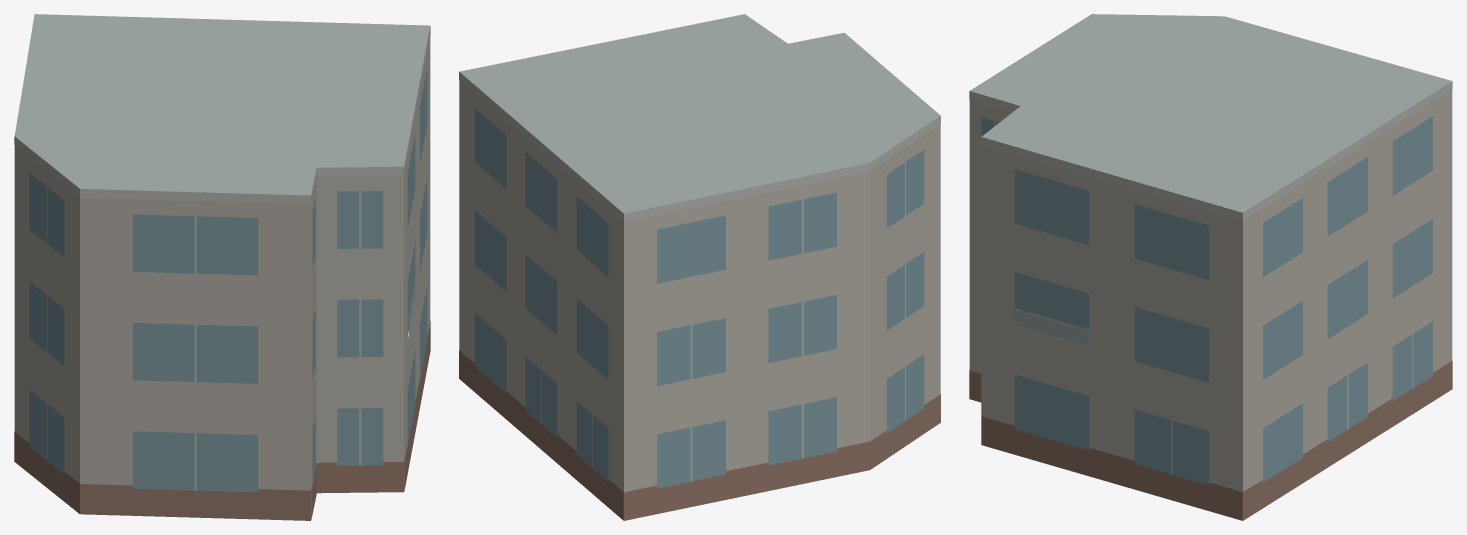
The model's file is survey-upis-32652975.glb.
3 views of the same model, side by side, from view 1: azimuth 30°, elevation 25°; view 2: azimuth 150°, elevation 25°; view 3: azimuth 270°, elevation 25° (orthographic). The views are drawn at different scales.
Visible parts, largest first — view 1: survey-upis-32652975.tmp; view 2: survey-upis-32652975.tmp; view 3: survey-upis-32652975.tmp.
Part boxes in pixels (box(x1,y1,x2,y2)): survey-upis-32652975.tmp: box(14, 14, 430, 520); survey-upis-32652975.tmp: box(459, 14, 940, 520); survey-upis-32652975.tmp: box(969, 14, 1452, 520).
Bounding box in the file's own units: 12.46 × 9 × 12.8.
